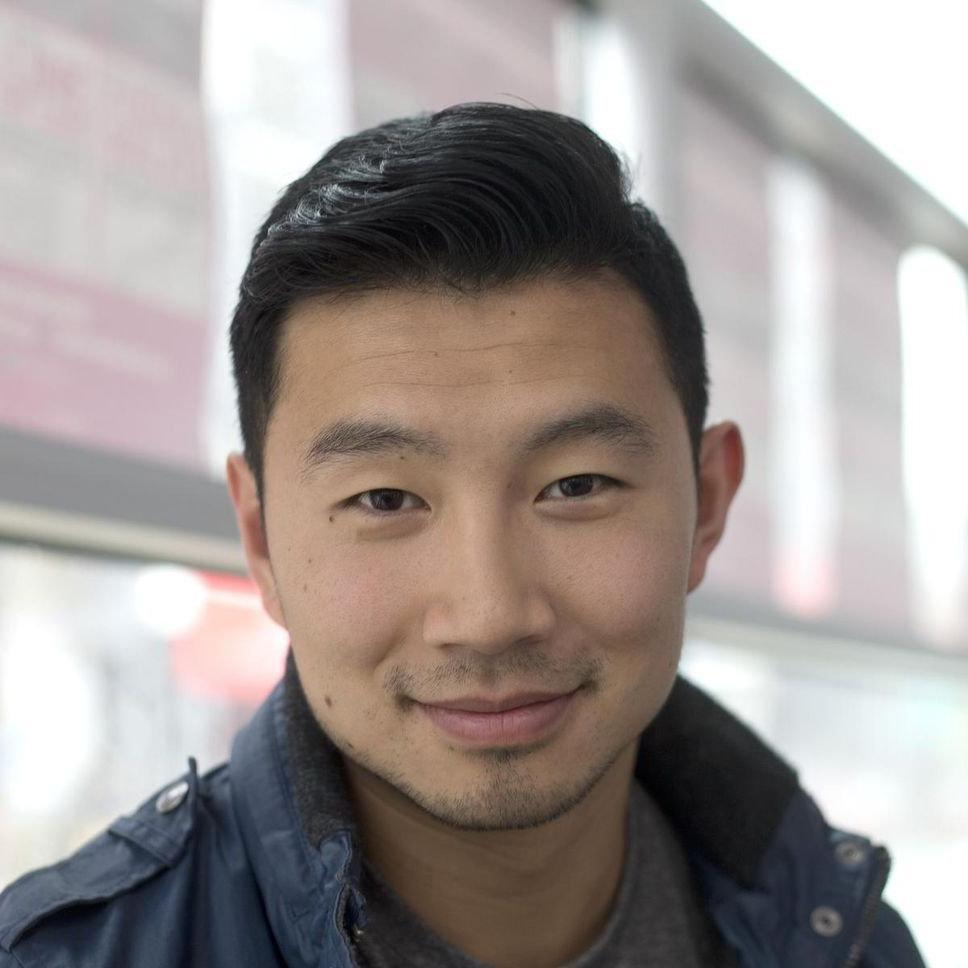Sober: (283, 318, 667, 796)
